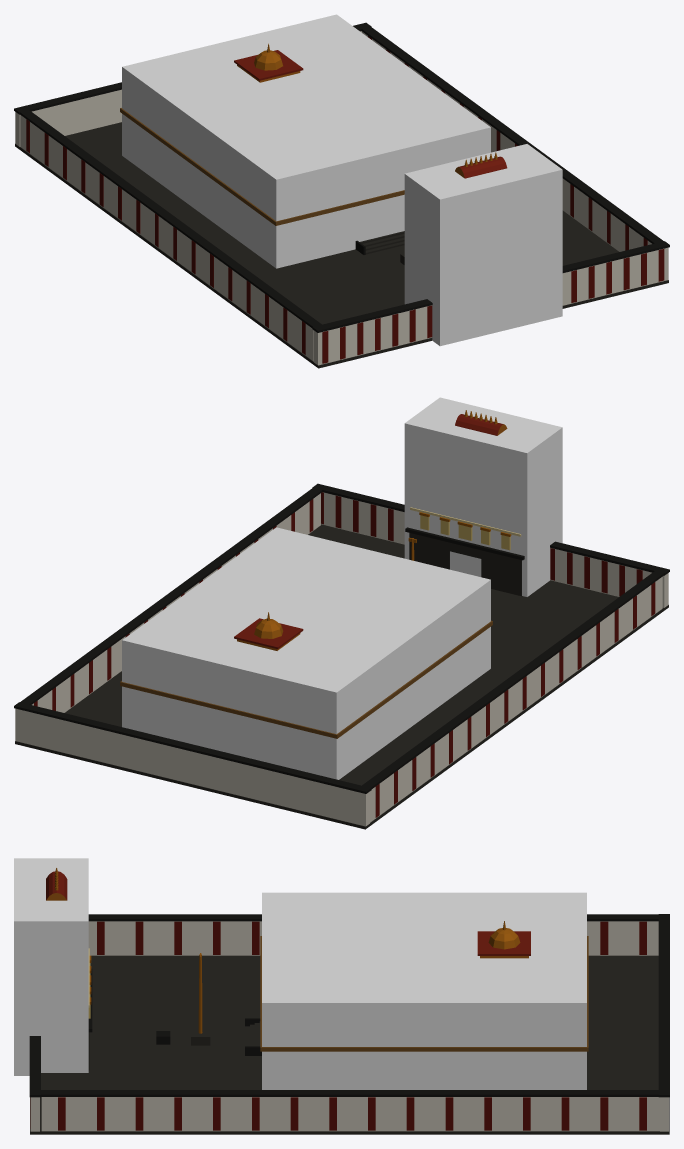
Rendered from B31_temple_hall.glb.
3 renders of one model, top to bottom at view 1: azimuth 30°, elevation 25°; view 2: azimuth 150°, elevation 25°; view 3: azimuth 270°, elevation 25°, orthographic. The views are drawn at different scales.
Visible parts, largest first — view 1: COL_Main, LOD0, COL_Compound; view 2: LOD0, COL_Main, COL_Compound; view 3: LOD0, COL_Main, COL_Compound.
Part boxes in pixels (x1=…): COL_Main: x1=122, y1=14, x2=490, y2=268; LOD0: x1=14, y1=22, x2=669, y2=368; COL_Compound: x1=404, y1=144, x2=562, y2=346; LOD0: x1=14, y1=410, x2=669, y2=829; COL_Main: x1=122, y1=527, x2=490, y2=779; COL_Compound: x1=404, y1=397, x2=562, y2=596; LOD0: x1=29, y1=868, x2=669, y2=1134; COL_Main: x1=262, y1=892, x2=586, y2=1089; COL_Compound: x1=14, y1=858, x2=88, y2=1075.
Size of what is drawn, in the model's own units: 40.2 by 17.48 by 61.52.
